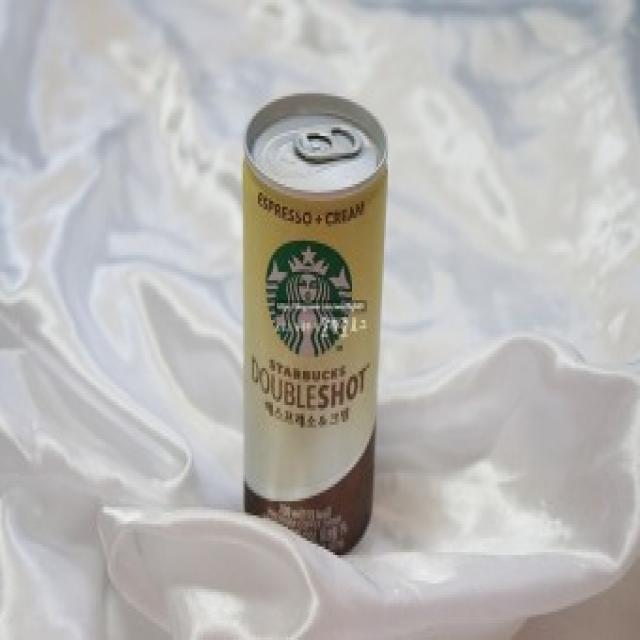kimloai: (244, 94, 388, 554)
